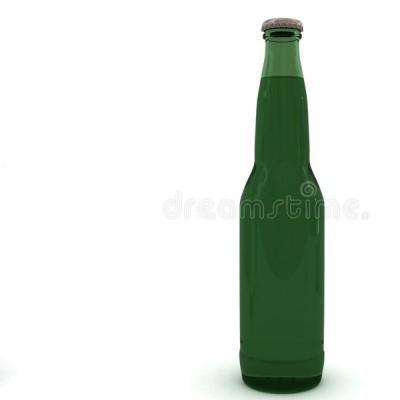beer: (234, 16, 339, 394)
